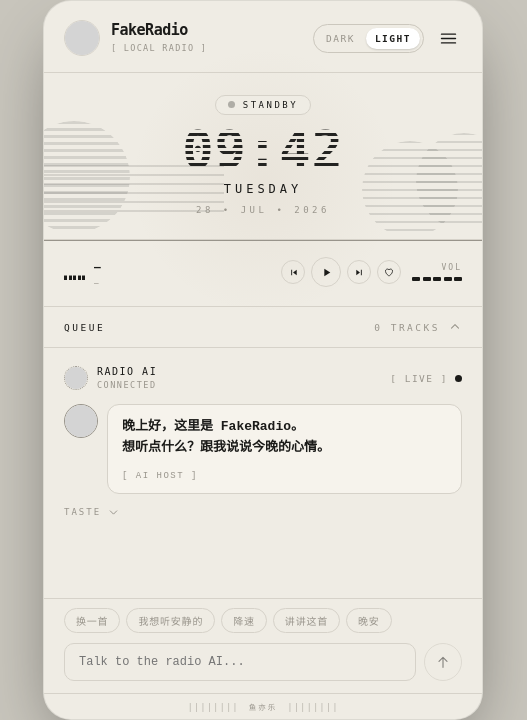
Test: EditorialRadio phone-frame runtime wiring › opens the top-right menu with library / settings / netease entries
Click the button named "menu". click: (448, 38)
box: [435,24,462,52]
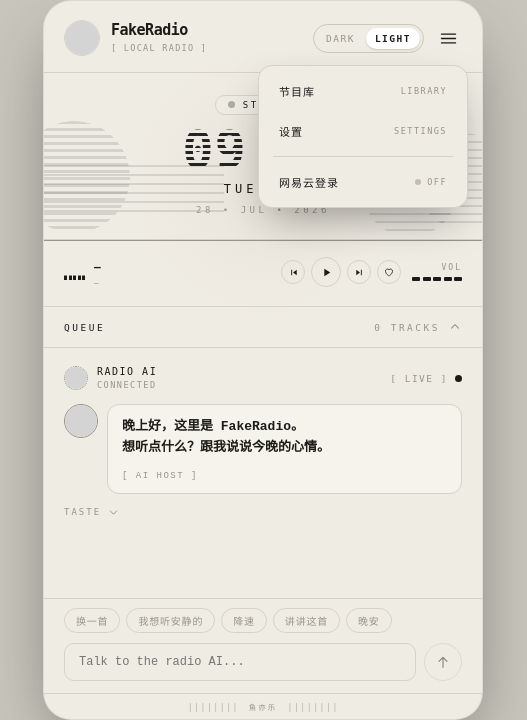
Check: the button "节目库 LIBRARY" is shown, box [265,72,461,110]
Check: the button "设置 SETTINGS" is shown, box [265,112,461,150]
Check: the button "网易云登录 OFF" is shown, box [265,163,461,201]
